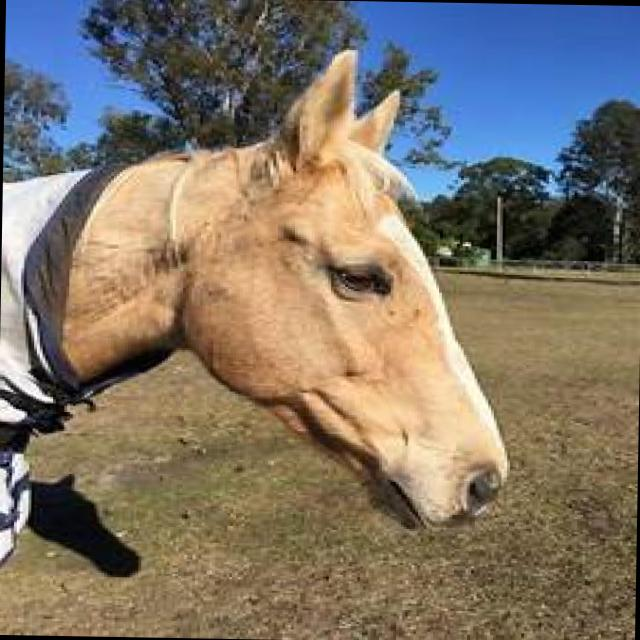animal: (0, 0, 605, 625)
